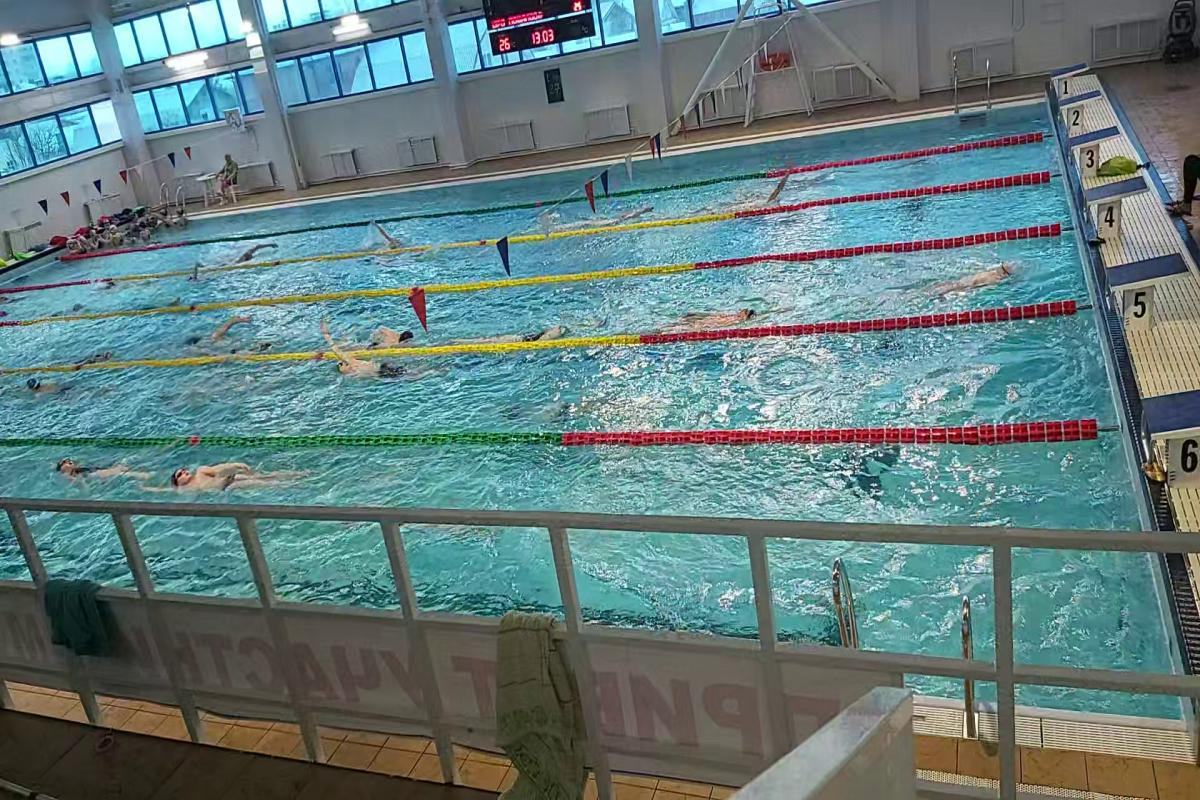swimmer: (314, 331, 428, 384), (158, 456, 314, 492), (46, 448, 153, 488), (923, 257, 1025, 295), (666, 297, 781, 327), (176, 314, 252, 347), (354, 318, 426, 351), (17, 372, 92, 401), (489, 317, 587, 336), (759, 174, 797, 202), (374, 223, 414, 248), (74, 342, 120, 362), (229, 248, 279, 264), (182, 263, 212, 281)
